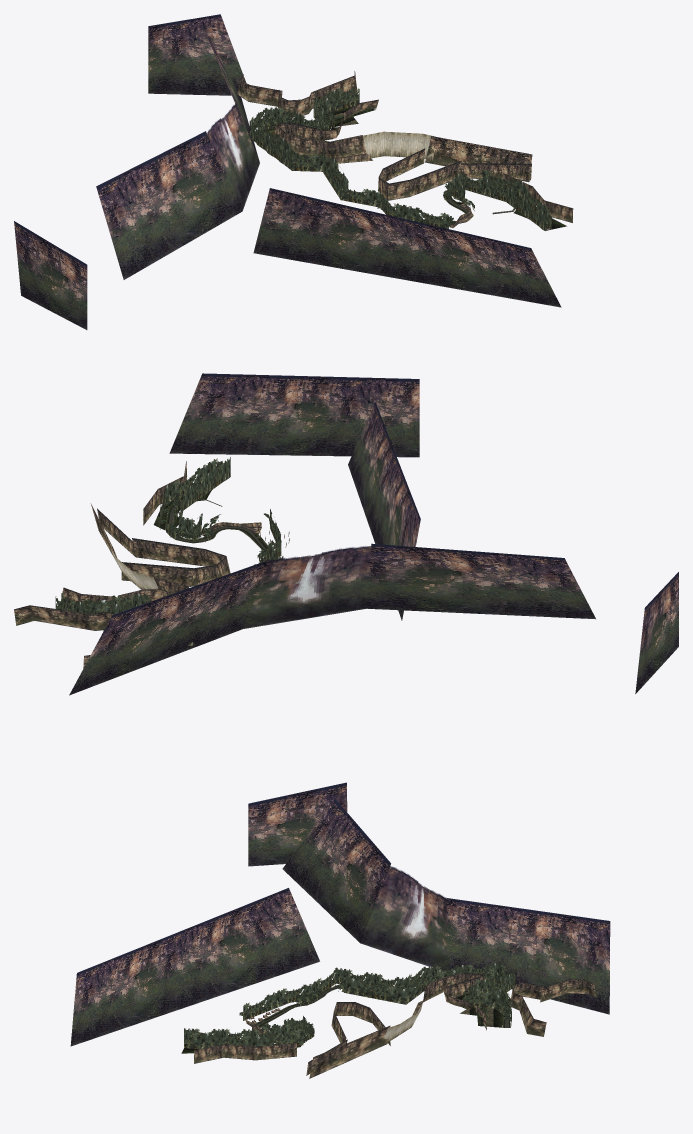
The model's file is stage-amaz-env.glb.
The picture shows the model from 3 angles, top to bottom: view 1: azimuth 30°, elevation 25°; view 2: azimuth 150°, elevation 25°; view 3: azimuth 270°, elevation 25°; orthographic projection. The views are drawn at different scales.
Parts seen in each view (by area): view 1: env part 0 chunk -4,-1, env part 0 chunk -8,-4, env part 0 chunk -3,-12, env part 1 chunk -2,-5, env part 0 chunk -12,-3, env part 0 chunk -6,-6, env part 1 chunk -2,-4, env part 0 chunk 0,-5, env part 0 chunk -1,-6, env part 0 chunk -2,-4, env part 0 chunk -3,-6, env part 0 chunk 0,-4 (+6 smaller); view 2: env part 0 chunk 0,2, env part 0 chunk -8,-4, env part 0 chunk -4,-9, env part 0 chunk -6,-6, env part 0 chunk -4,-1, env part 0 chunk -12,-3, env part 1 chunk -2,-5, env part 0 chunk -2,-4, env part 0 chunk -2,-5, env part 1 chunk -2,-4, env part 0 chunk -1,-9; view 3: env part 0 chunk -4,-1, env part 0 chunk -4,-9, env part 0 chunk -8,-4, env part 0 chunk -6,-6, env part 0 chunk -12,-3, env part 1 chunk -2,-5, env part 1 chunk -2,-4, env part 0 chunk 0,-5, env part 0 chunk -3,-10, env part 0 chunk -2,-5, env part 0 chunk -2,-4, env part 0 chunk 0,-3 (+4 smaller).
Part boxes in pixels (x1,y1,x2,y2): env part 0 chunk -4,-1: [253, 188, 561, 307]; env part 0 chunk -8,-4: [96, 131, 242, 279]; env part 0 chunk -3,-12: [148, 14, 246, 95]; env part 1 chunk -2,-5: [249, 84, 545, 230]; env part 0 chunk -12,-3: [14, 221, 87, 329]; env part 0 chunk -6,-6: [207, 103, 259, 210]; env part 1 chunk -2,-4: [261, 88, 551, 228]; env part 0 chunk 0,-5: [425, 136, 532, 182]; env part 0 chunk -1,-6: [363, 131, 435, 160]; env part 0 chunk -2,-4: [256, 125, 551, 230]; env part 0 chunk -3,-6: [301, 135, 372, 163]; env part 0 chunk 0,-4: [460, 163, 531, 180]; env part 0 chunk 0,2: [169, 373, 419, 457]; env part 0 chunk -8,-4: [366, 543, 595, 619]; env part 0 chunk -4,-9: [69, 560, 269, 695]; env part 0 chunk -6,-6: [243, 546, 371, 628]; env part 0 chunk -4,-1: [348, 402, 420, 620]; env part 0 chunk -12,-3: [635, 572, 678, 693]; env part 1 chunk -2,-5: [55, 457, 283, 645]; env part 0 chunk -2,-4: [132, 477, 268, 566]; env part 0 chunk -2,-5: [121, 556, 230, 586]; env part 1 chunk -2,-4: [61, 458, 264, 611]; env part 0 chunk -1,-9: [14, 605, 95, 630]; env part 0 chunk -4,-1: [70, 888, 319, 1046]; env part 0 chunk -4,-9: [446, 898, 610, 1014]; env part 0 chunk -8,-4: [282, 799, 390, 942]; env part 0 chunk -6,-6: [360, 866, 446, 970]; env part 0 chunk -12,-3: [248, 782, 347, 866]; env part 1 chunk -2,-5: [184, 963, 515, 1043]; env part 1 chunk -2,-4: [184, 968, 502, 1048]; env part 0 chunk 0,-5: [309, 1025, 390, 1078]; env part 0 chunk -3,-10: [540, 979, 596, 1002]; env part 0 chunk -2,-5: [335, 1002, 390, 1045]; env part 0 chunk -2,-4: [255, 981, 510, 1043]; env part 0 chunk 0,-3: [255, 1042, 296, 1060].
Size of the model in its own units: 4343 by 841 by 4847.
Materials: 14 (14 with a texture image).
